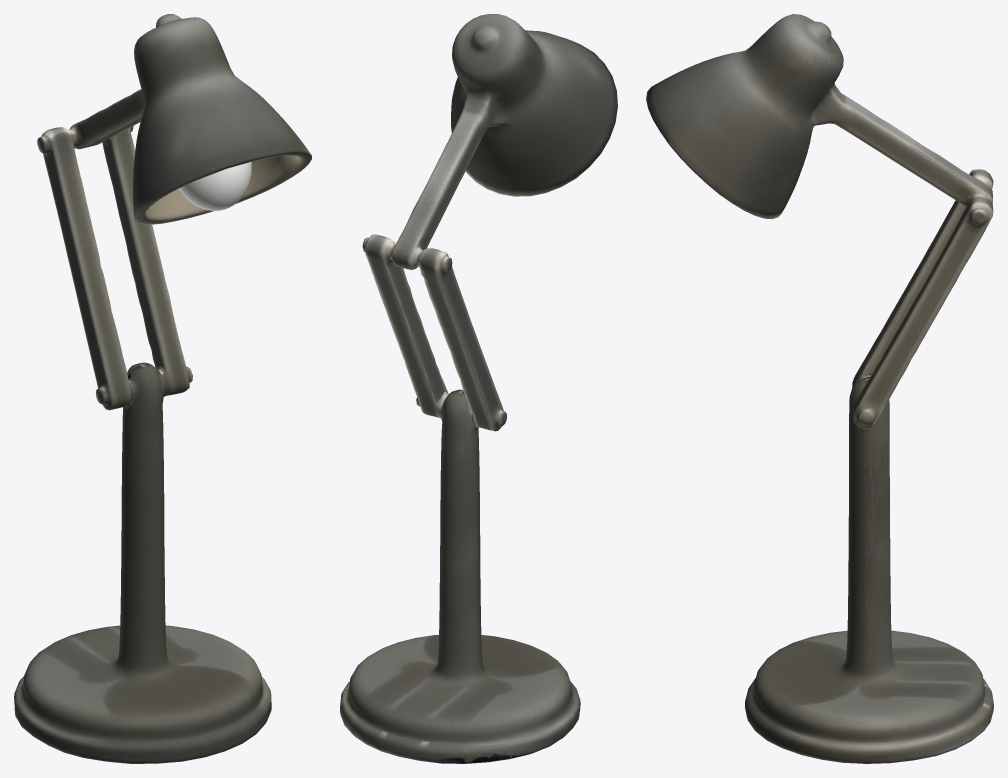
The model's file is Desk_Lamp.glb.
3 views of the same model, side by side, from view 1: azimuth 30°, elevation 25°; view 2: azimuth 150°, elevation 25°; view 3: azimuth 270°, elevation 25° (orthographic). The views are drawn at different scales.
Bounding box in the file's own units: 0.6193 × 1.91 × 0.8654.
1 material, 1 textured.
